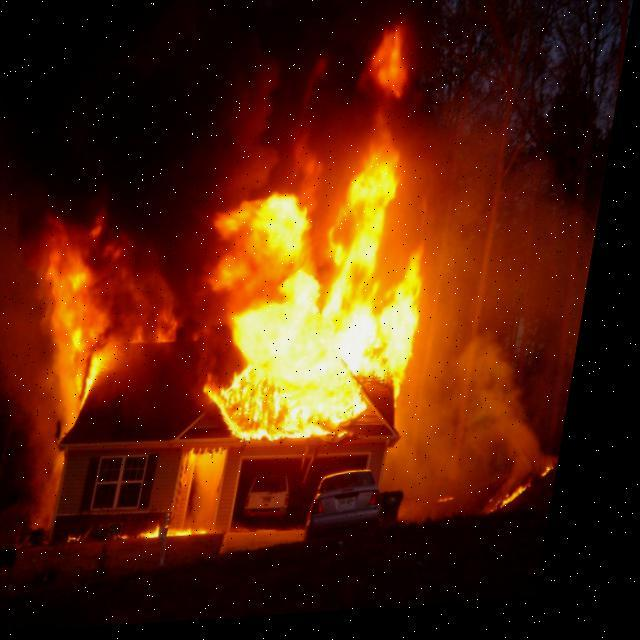Fire: (214, 41, 471, 449), (43, 232, 146, 412)
